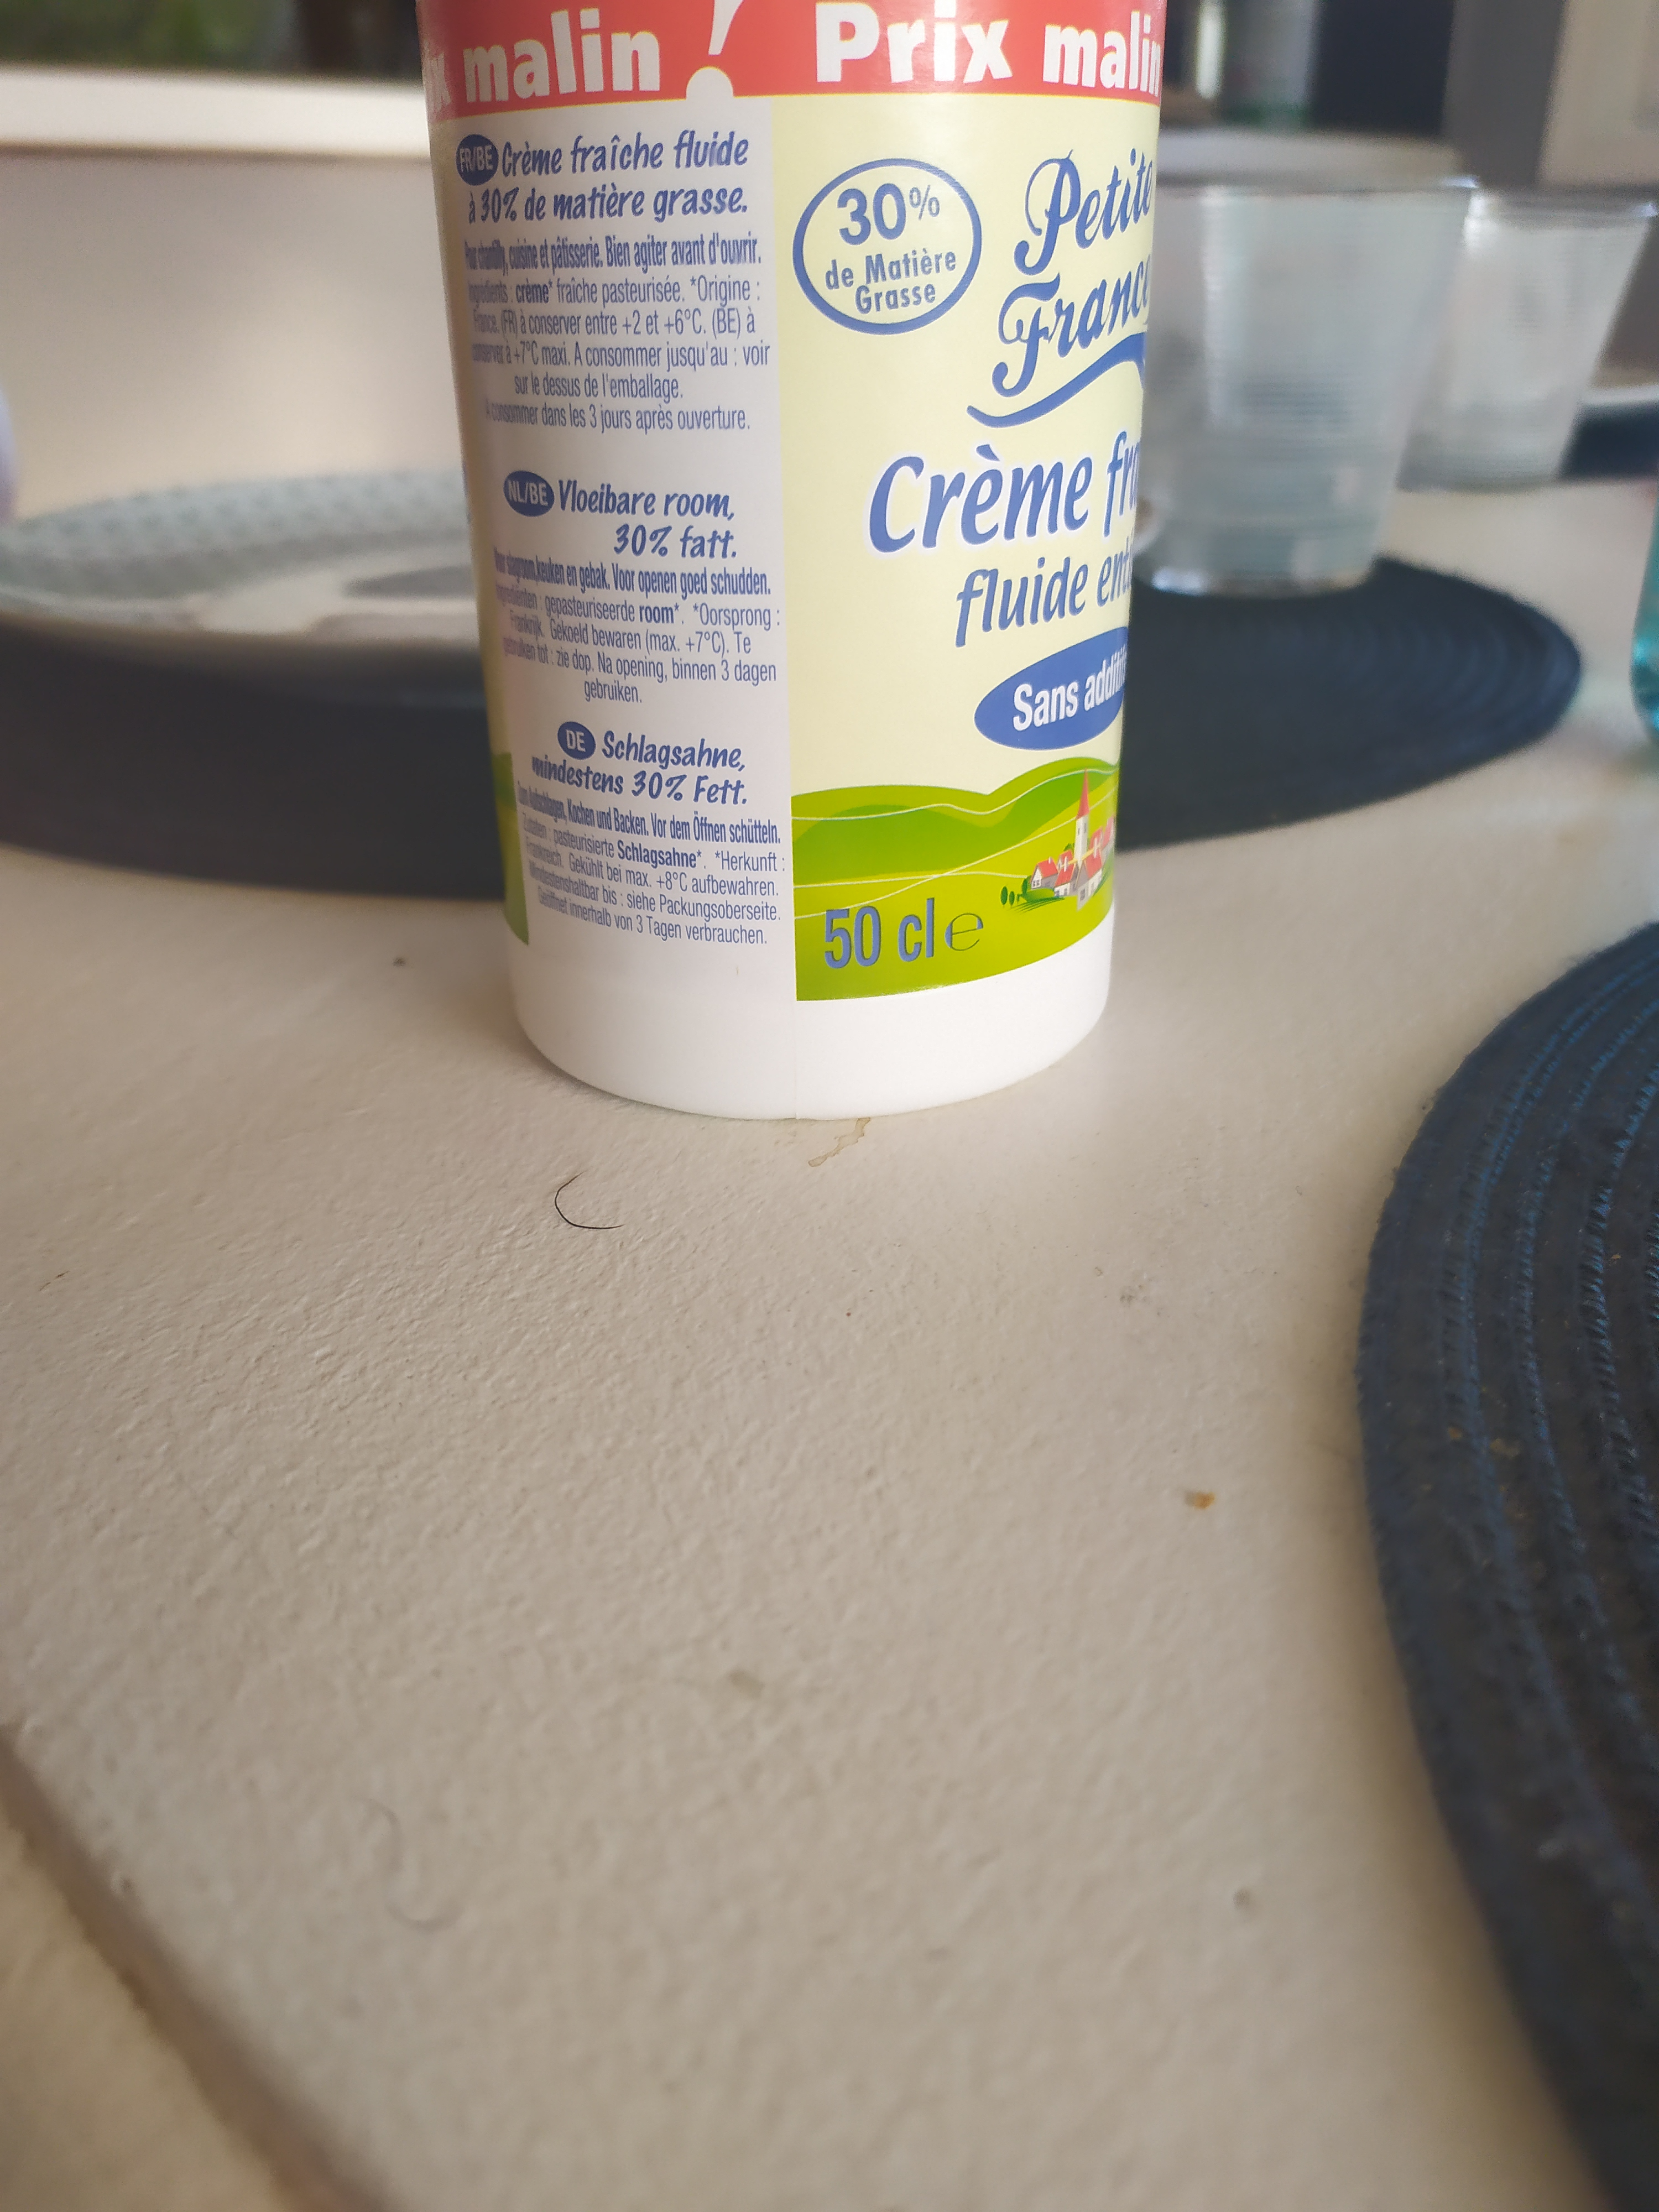bottle: (404, 0, 1168, 1129)
